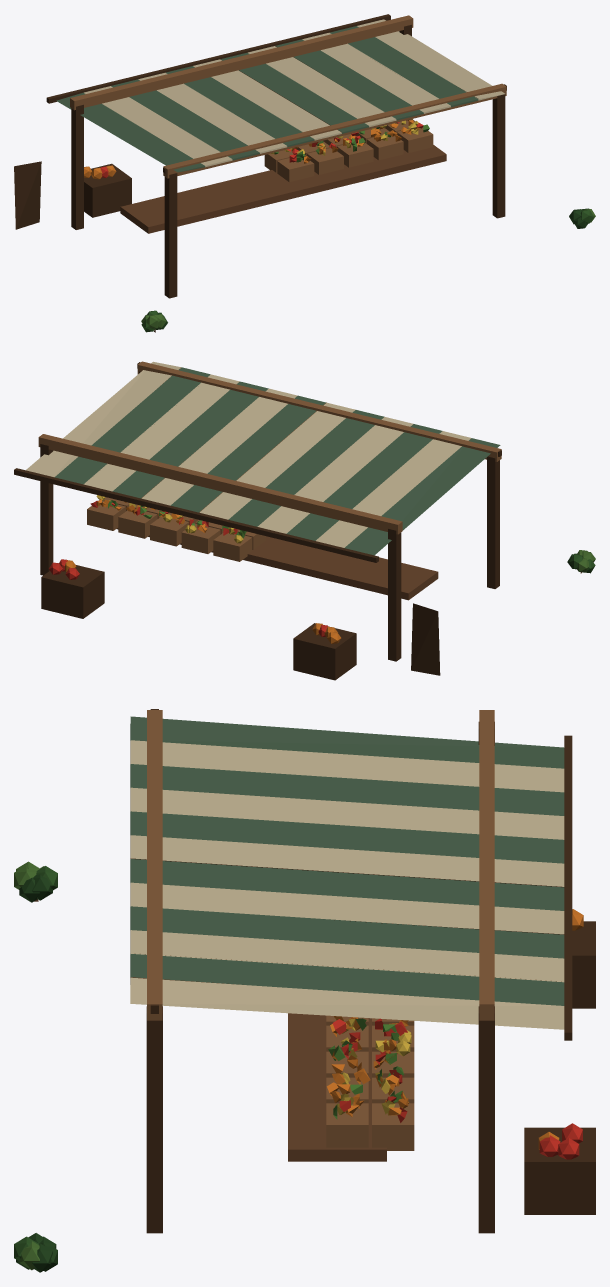
Rendered from market.glb.
3 views of the same model, one above another, from view 1: azimuth 30°, elevation 25°; view 2: azimuth 150°, elevation 25°; view 3: azimuth 270°, elevation 25° (orthographic). The views are drawn at different scales.
Bounding box in the file's own units: 5.52 × 1.57 × 3.48.
